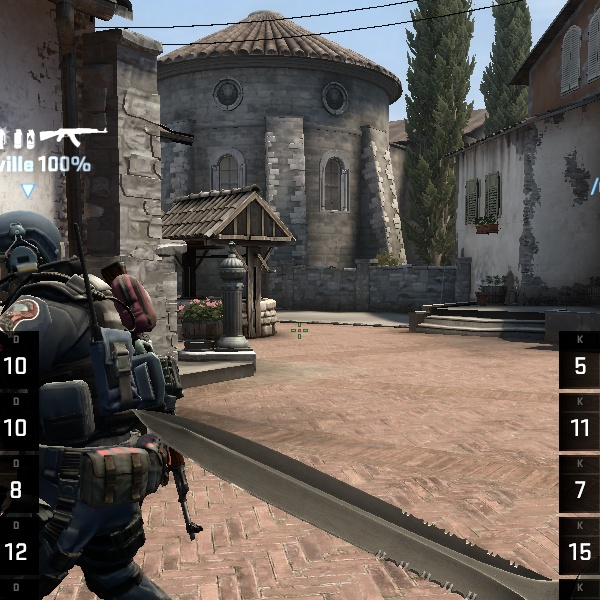ct_body: (7, 204, 222, 600)
ct_head: (0, 204, 75, 316)
